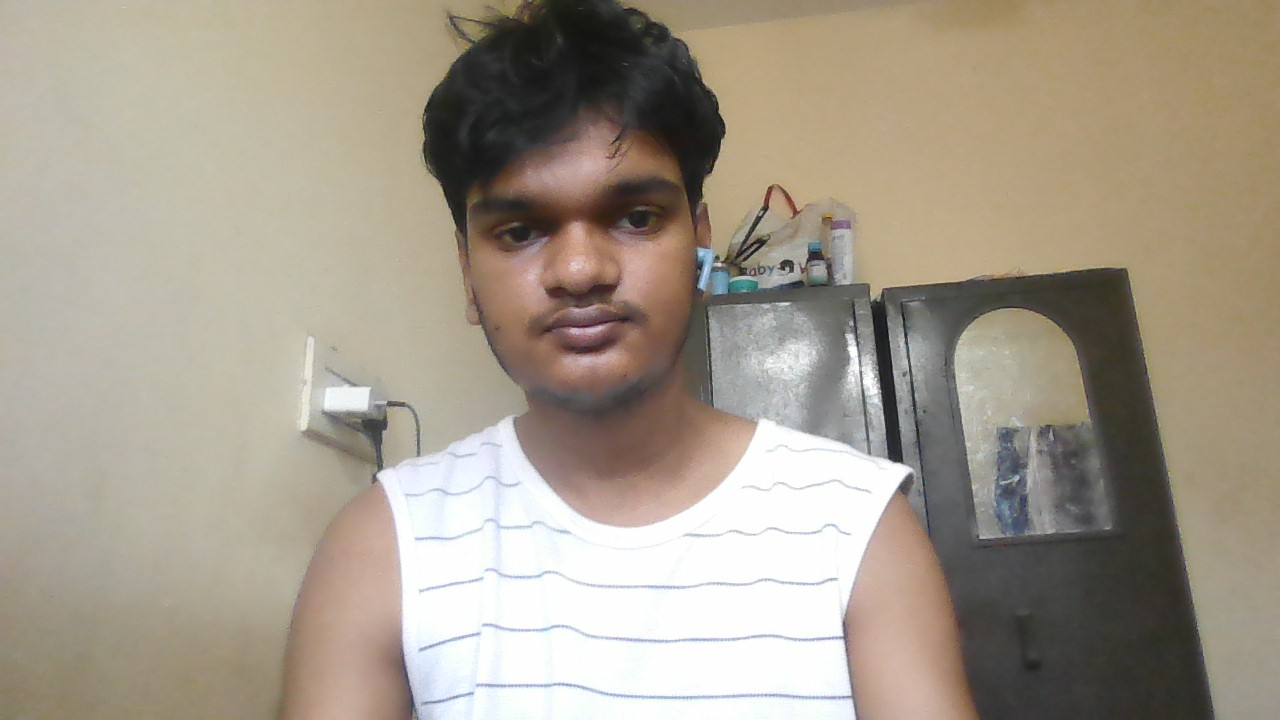earphone: (696, 241, 718, 291)
